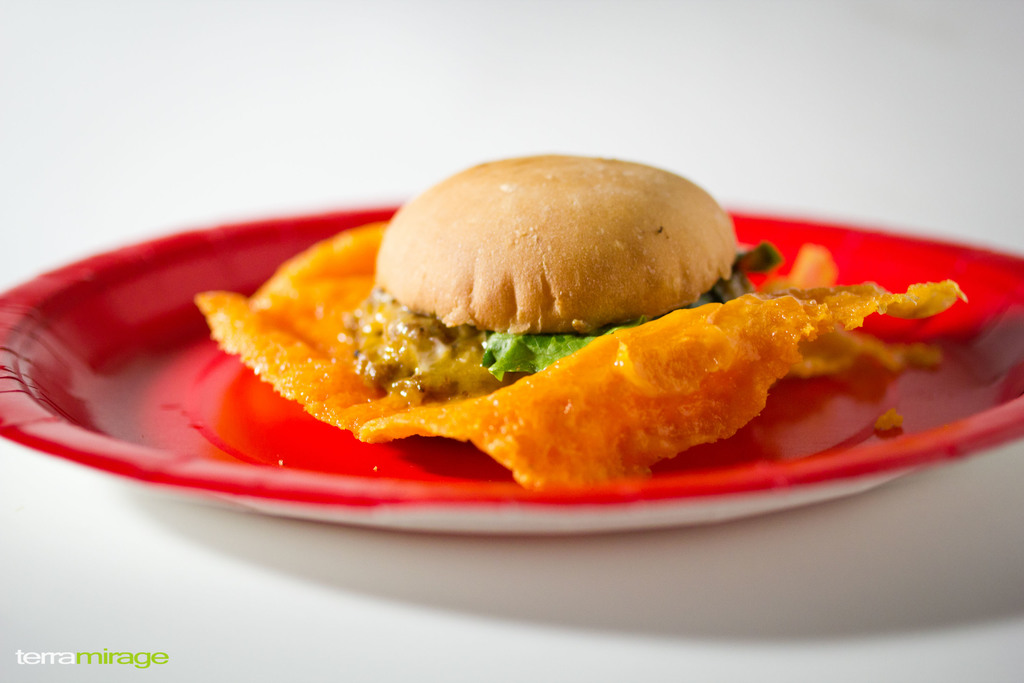Hamburger: (193, 151, 965, 489)
